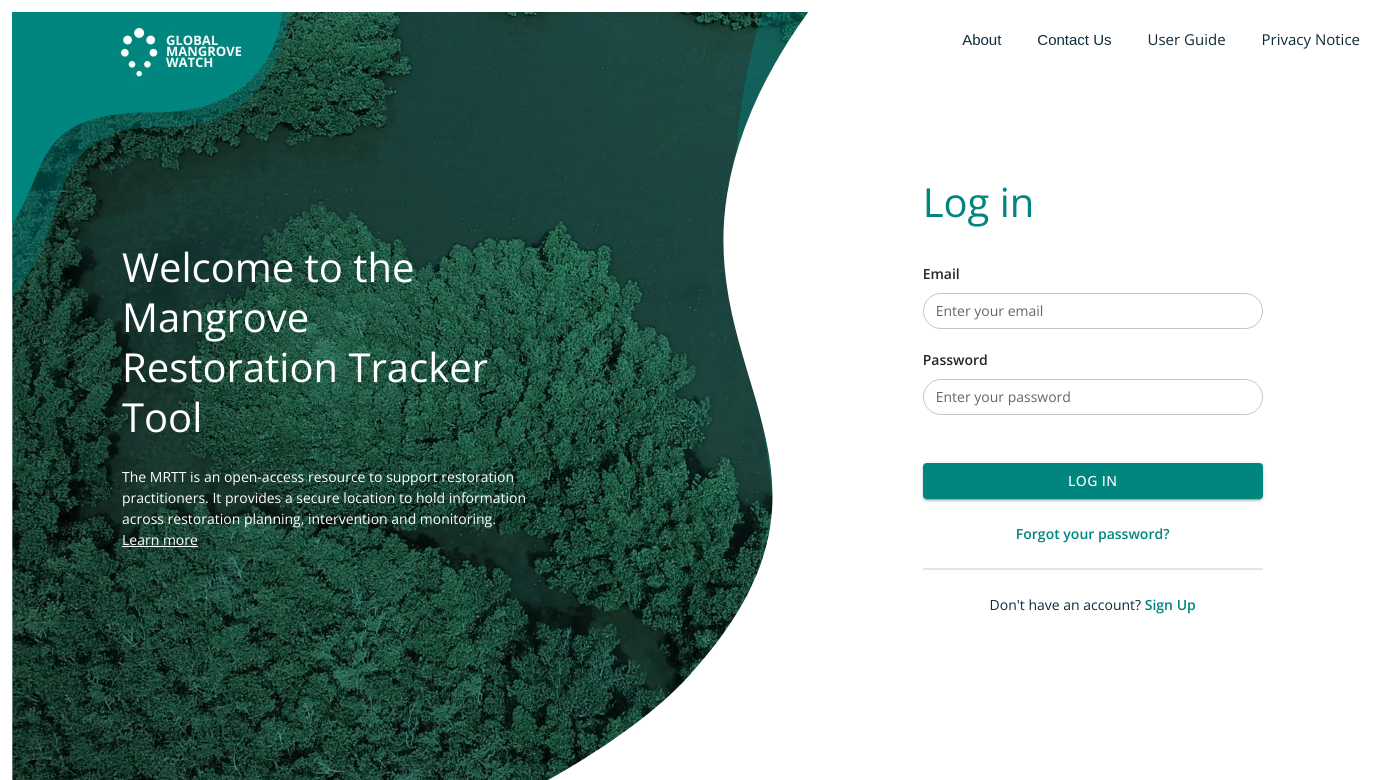
Test: LoginForm › shows the API error when the credentials are wrong
Type "ana@example.org" into the field labelled "Email" at (1093, 311), box [923,293,1263,329]
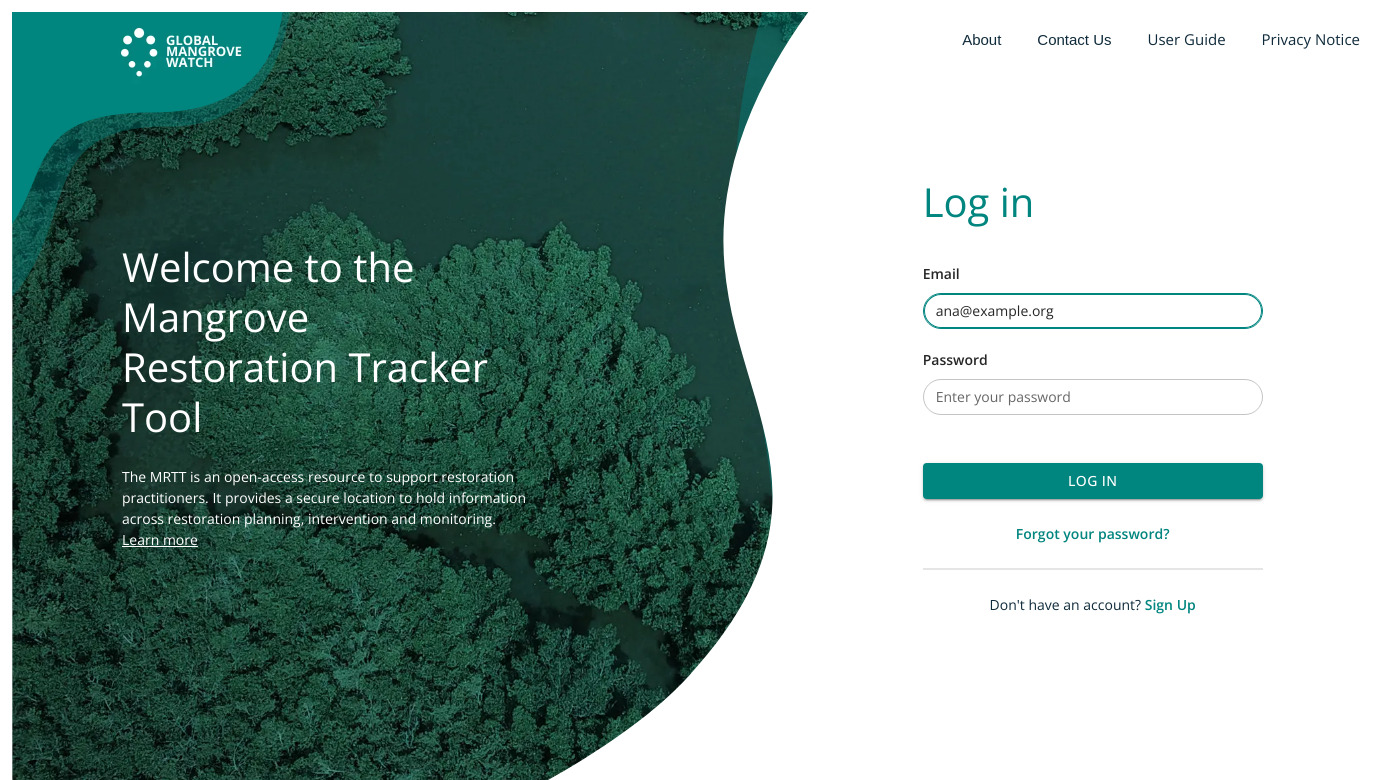
Type "wrong" into the password field labelled "Password" at (1093, 397), box [923,379,1263,415]
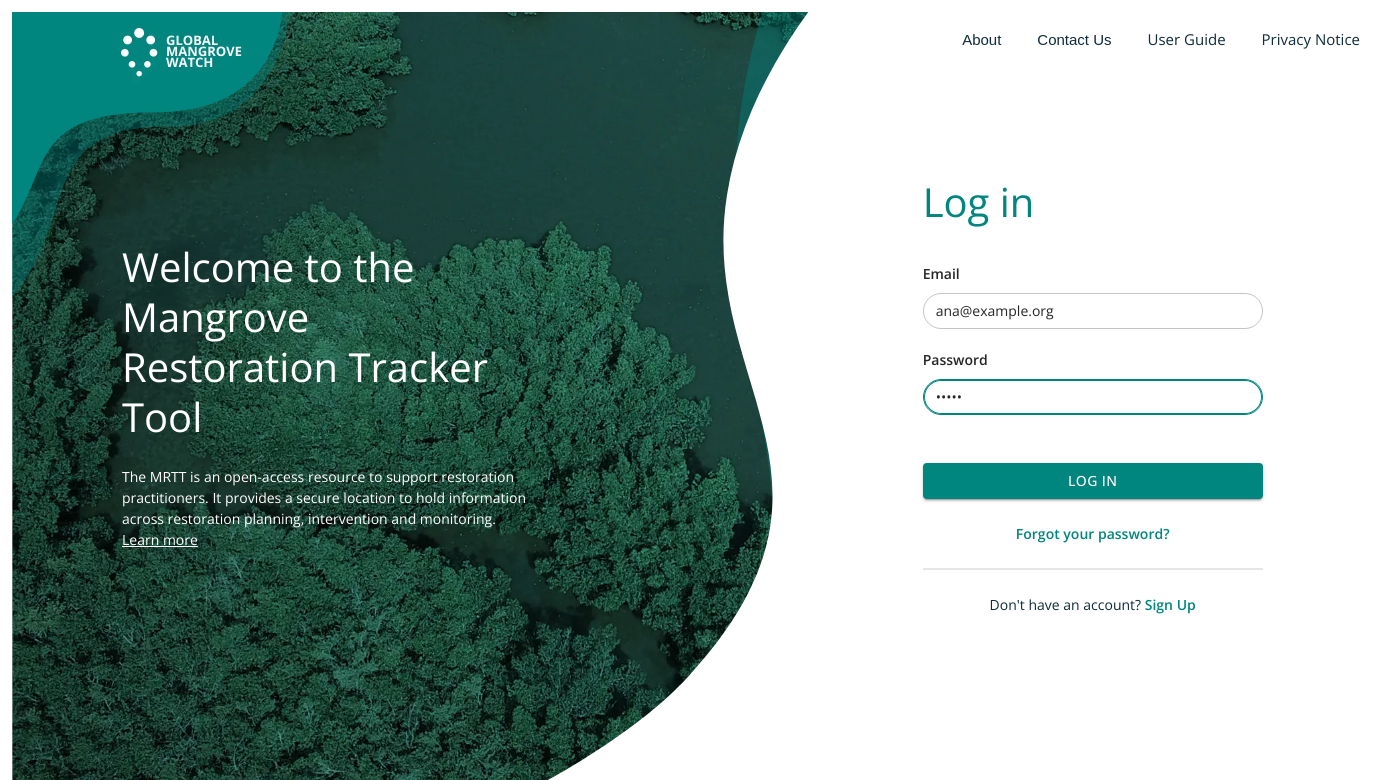
Click the button "Log in" at (1093, 481), box [923,463,1263,499]
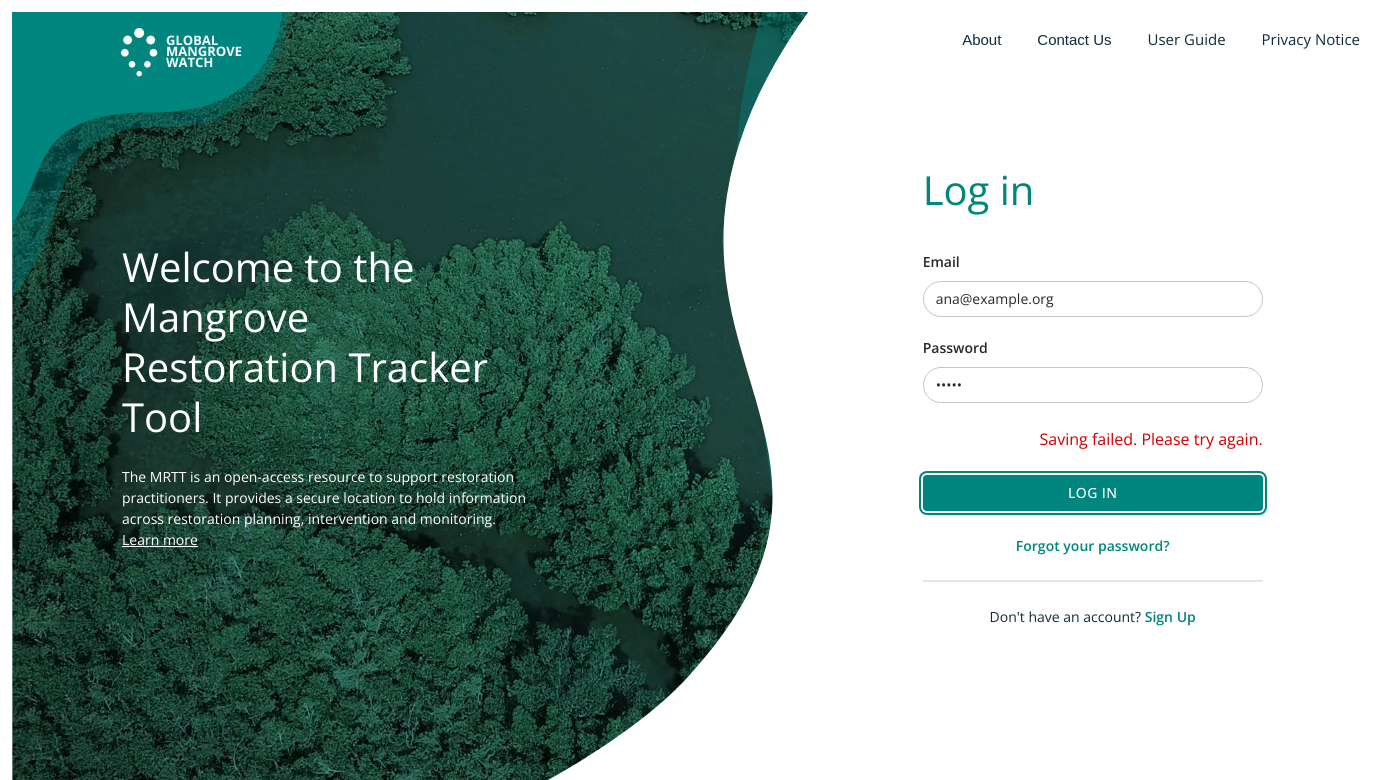
Check: the text "Saving failed. Please try again." is shown, box [1040,427,1263,451]
